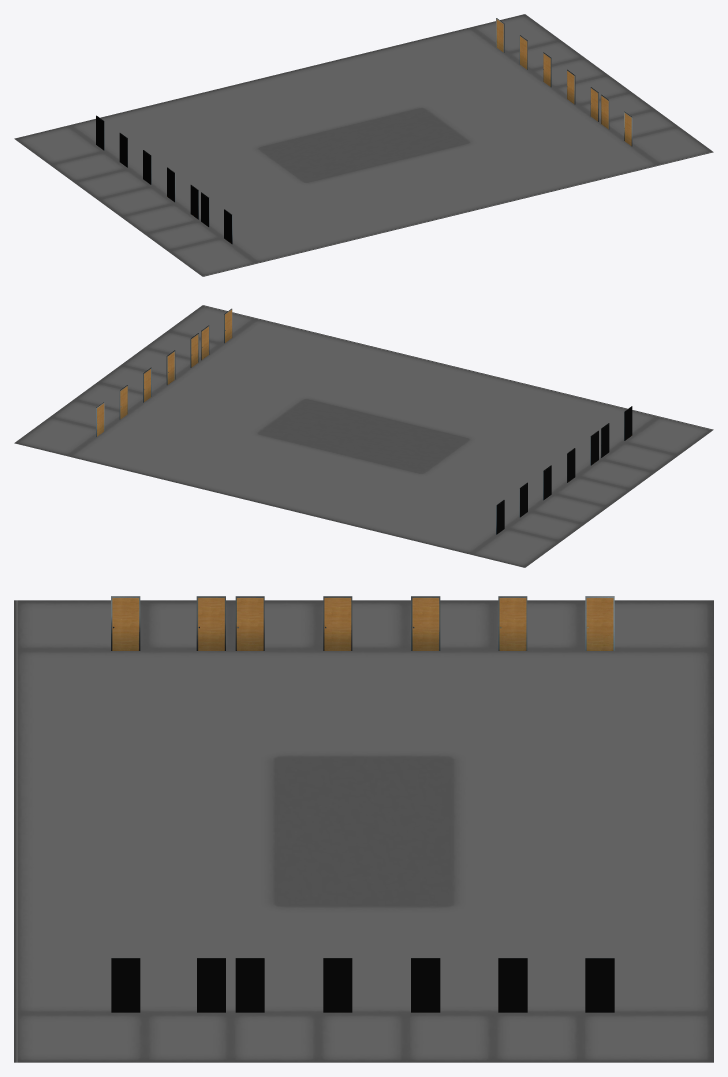
The model's file is static_forKudaB.dae.
The picture shows the model from 3 angles, top to bottom: view 1: azimuth 30°, elevation 25°; view 2: azimuth 150°, elevation 25°; view 3: azimuth 270°, elevation 25°; orthographic projection. The views are drawn at different scales.
Visible parts, largest first — view 1: mfloorB, m_doors; view 2: mfloorB, m_doors; view 3: mfloorB, m_doors.
Boxes of the visible parts, left/top/right/bottom form: mfloorB: left=14, top=14, right=713, bottom=276; m_doors: left=96, top=18, right=632, bottom=244; mfloorB: left=14, top=305, right=713, bottom=567; m_doors: left=96, top=308, right=632, bottom=534; mfloorB: left=14, top=600, right=713, bottom=1062; m_doors: left=111, top=596, right=614, bottom=1012.
Bounding box in the file's own units: 125 × 80 × 6.83.
